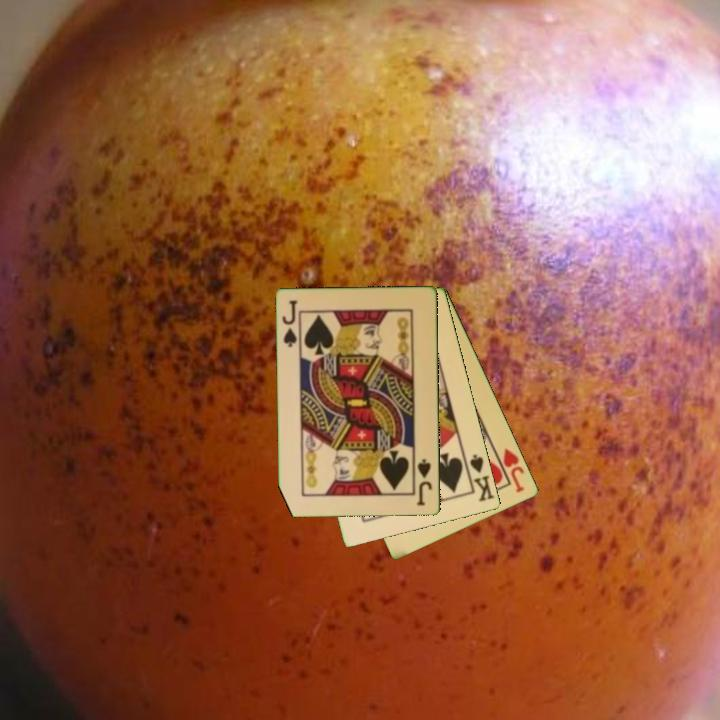Jh: (492, 445, 528, 496)
Js: (279, 297, 302, 351), (414, 456, 435, 509)
Ks: (461, 451, 497, 505)
